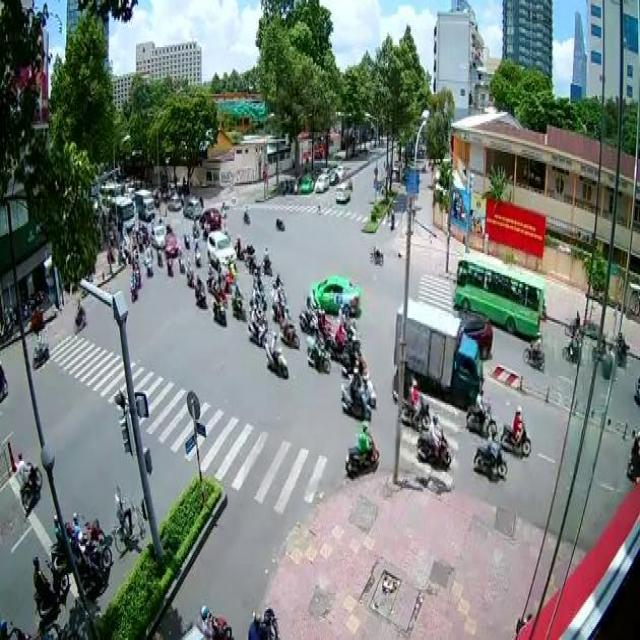bicycle: (111, 481, 136, 555)
car: (308, 273, 361, 316), (204, 232, 237, 270)
motorcycle: (414, 412, 451, 467), (345, 418, 379, 477), (470, 427, 508, 477), (339, 365, 372, 421), (499, 403, 530, 458), (264, 331, 288, 380), (522, 331, 546, 367), (193, 271, 205, 304)
truck: (392, 293, 482, 396), (452, 253, 544, 336)
